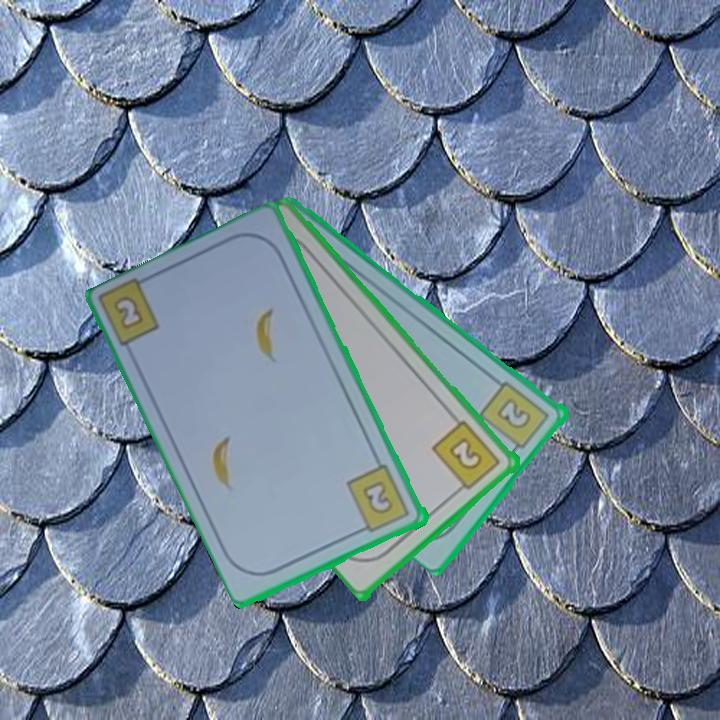2b: (477, 377, 554, 458), (429, 417, 504, 497), (343, 461, 414, 537), (113, 295, 144, 329)
